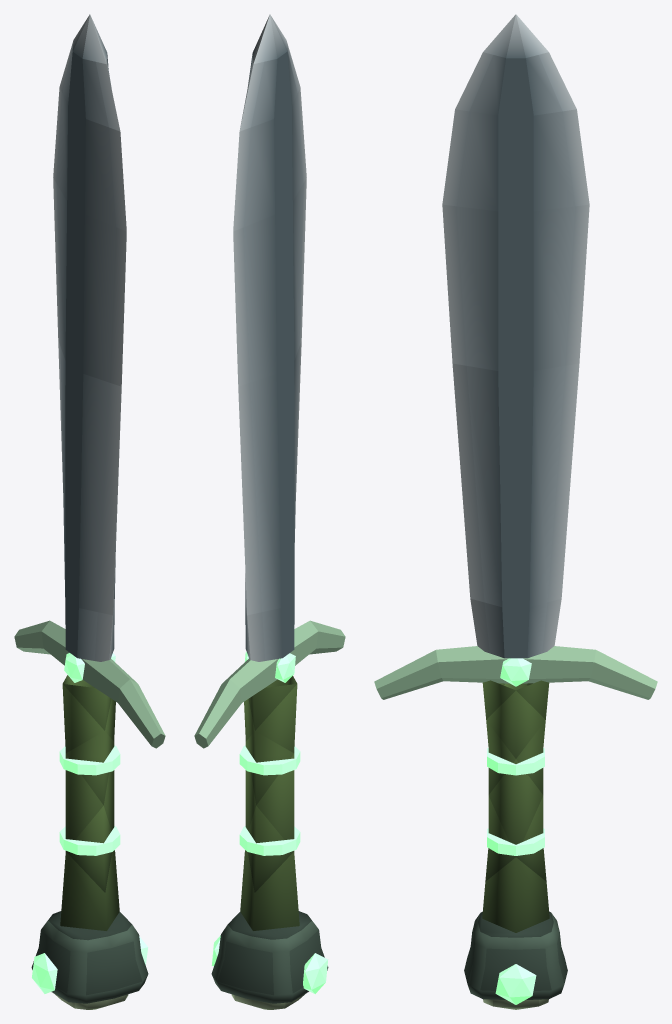
File: sword_uncommon.glb
The picture shows the model from 3 angles, left to right: view 1: azimuth 30°, elevation 25°; view 2: azimuth 150°, elevation 25°; view 3: azimuth 270°, elevation 25°; orthographic projection.
Visible parts, largest first — view 1: sword_uncommon_export; view 2: sword_uncommon_export; view 3: sword_uncommon_export.
Part boxes in pixels (<box>): sword_uncommon_export: <box>14,14,165,1009</box>; sword_uncommon_export: <box>194,14,345,1009</box>; sword_uncommon_export: <box>374,14,657,1009</box>.
Bounding box in the file's own units: 24.02 × 215 × 55.83.
